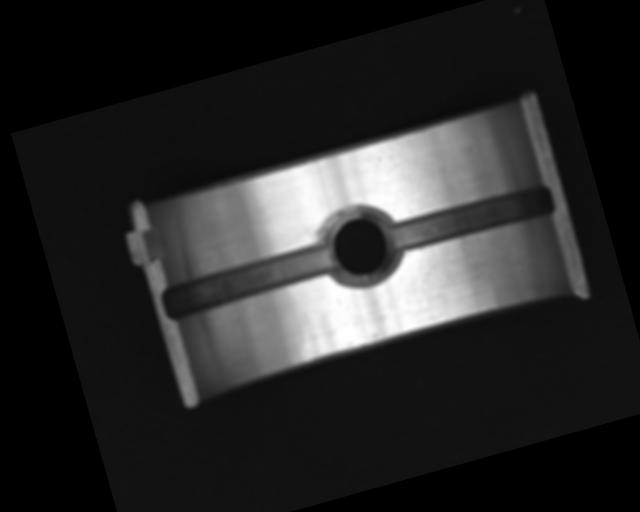gap: (158, 238, 337, 325), (386, 181, 557, 256)
hole: (311, 193, 411, 299)
